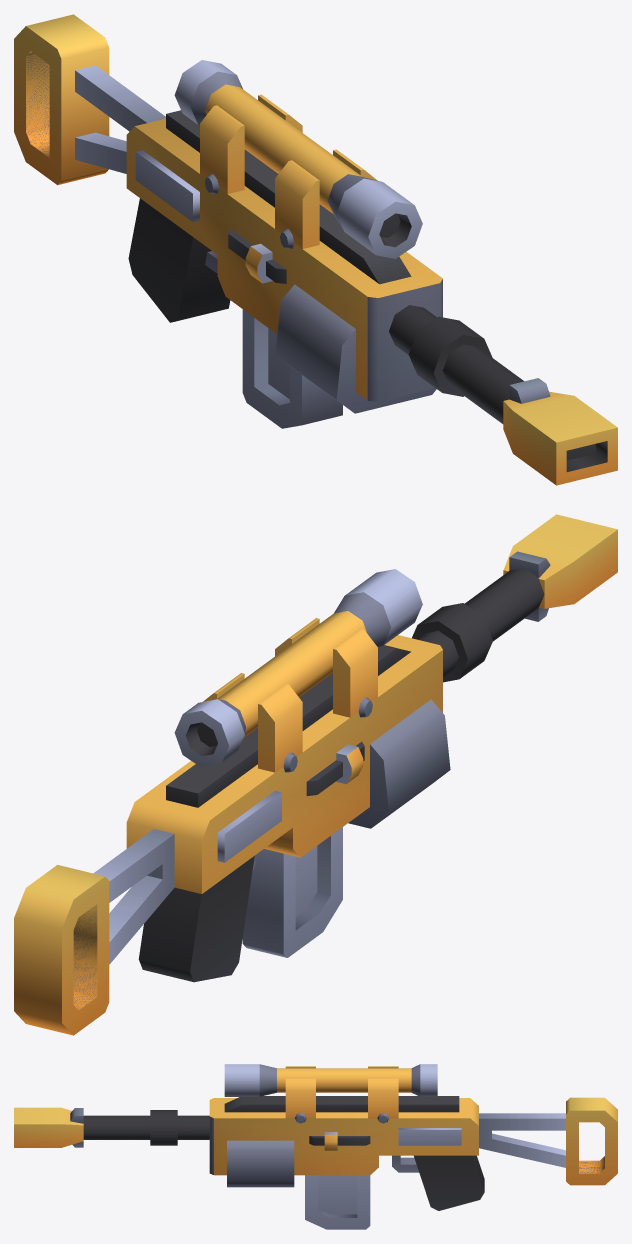
The model's file is gun_sniper.glb.
3 views of the same model, one above another, from view 1: azimuth 30°, elevation 25°; view 2: azimuth 150°, elevation 25°; view 3: azimuth 270°, elevation 25° (orthographic). The views are drawn at different scales.
Visible parts, largest first — view 1: blaster-e; view 2: blaster-e; view 3: blaster-e.
Boxes of the visible parts, bbox=[...] form: blaster-e: bbox=[14, 14, 617, 485]; blaster-e: bbox=[14, 514, 617, 1035]; blaster-e: bbox=[14, 1064, 617, 1229].
Bounding box in the file's own units: 0.1257 × 0.306 × 1.05.
1 material, 1 textured.
